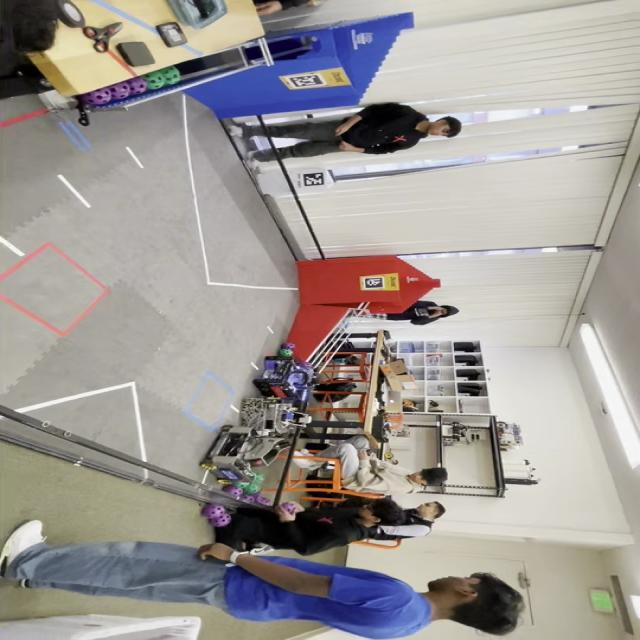artifact_green: (143, 70, 165, 90), (160, 66, 181, 85), (223, 486, 244, 499), (243, 483, 260, 495), (281, 502, 297, 513), (253, 472, 265, 483), (234, 481, 250, 489), (278, 349, 293, 357), (201, 463, 216, 470), (217, 479, 232, 485), (280, 343, 295, 349), (384, 453, 394, 459), (200, 464, 207, 469)
artifact_purple: (82, 88, 112, 105), (108, 82, 130, 99), (202, 504, 226, 518), (127, 78, 146, 95), (209, 514, 232, 527), (223, 486, 242, 499), (245, 481, 260, 495), (281, 502, 297, 513), (242, 494, 257, 503), (256, 496, 271, 505), (278, 348, 293, 357), (297, 361, 312, 369), (280, 343, 295, 350)
